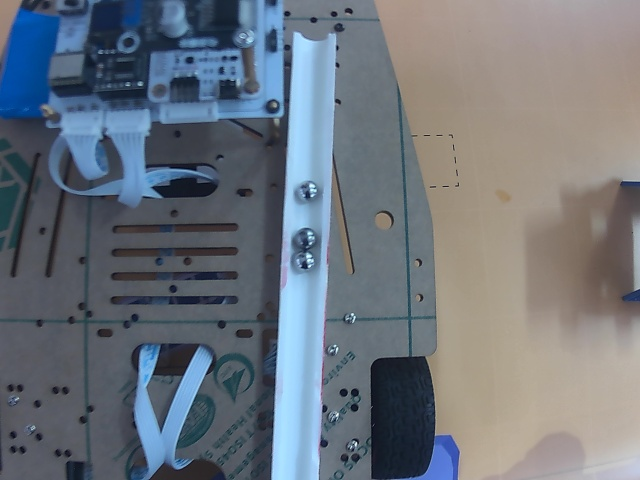steelball: (292, 250, 314, 271), (294, 228, 316, 248), (297, 181, 317, 202)
